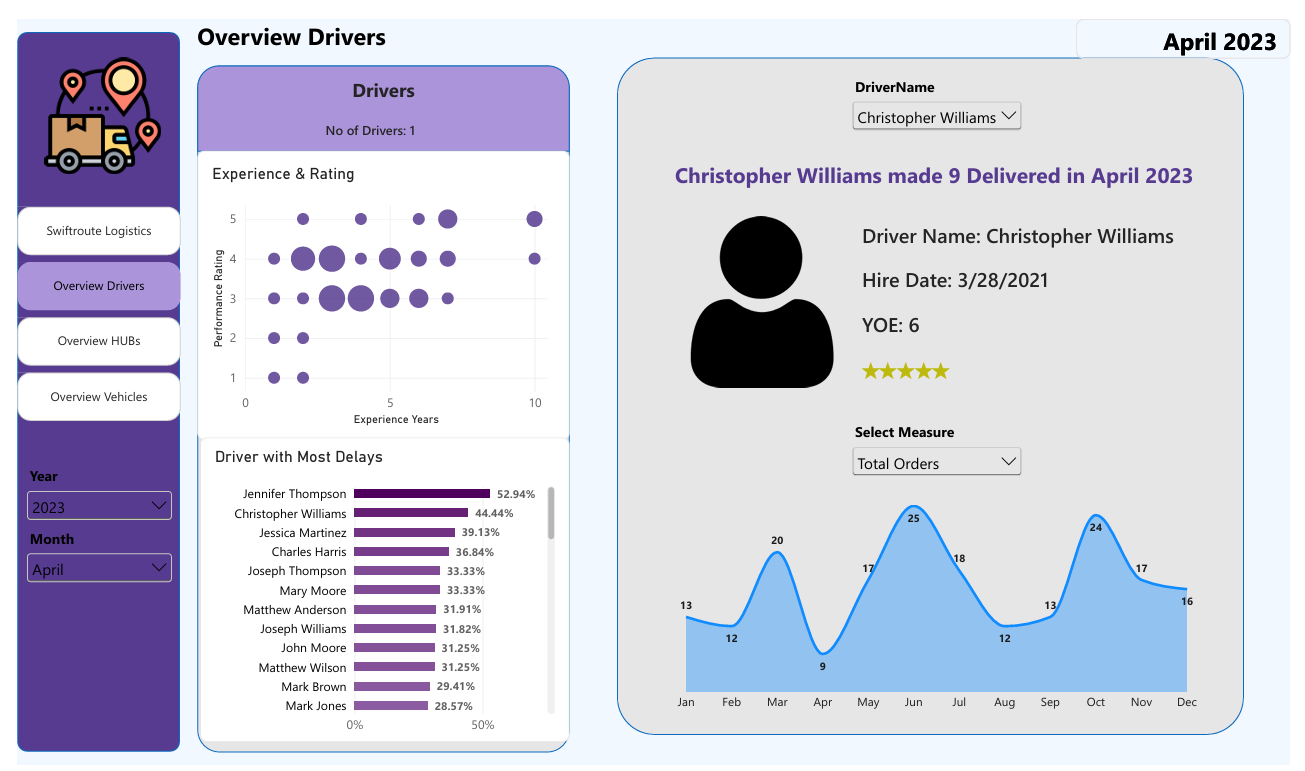

What the dashboard file says about the page in this screenshot:
{"tool":"powerbi","page":{"name":"Overview Drivers","canvas":[1450,850],"ordinal":1},"visuals":[{"type":"shape","title":"Experience & Rating","box":[682.9,44.3,714.3,771.4],"z":0},{"type":"textbox","box":[204.8,0,248.2,44.8],"z":2000},{"type":"cardVisual","fields":{"Data":["Measure.Year Month tilte"]},"box":[1206.3,0,244.1,45.1],"z":5000},{"type":"group","id":"g1","title":"Group 1","box":[205.2,52.9,424.4,783.5],"z":6000},{"type":"slicer","fields":{"Values":["Drivers.DriverName"]},"box":[945.7,65.7,202.9,71.4],"z":7000},{"type":"cardVisual","fields":{"Data":["Measure.Year Month tilte"]},"box":[1205.9,0,244.1,45.1],"z":8000},{"type":"cardVisual","fields":{"Data":["Measure.Driver title"]},"box":[692.9,152.9,701.4,45.7],"z":9000},{"type":"cardVisual","fields":{"Data":["Measure.Driver name","Measure.Hire Date title","Measure.YoE","Measure.Star rating"]},"box":[945.7,218.6,424.3,207.1],"z":10000},{"type":"shape","box":[205.2,52.9,424.3,783.5],"z":11000,"group":"g1"},{"type":"image","box":[751.4,205.7,194.3,232.9],"z":11000},{"type":"areaChart","fields":{"Category":["Date.Month 3"],"Y":["Measure.Total Orders"]},"box":[724.3,531.4,645.7,278.6],"z":12000},{"type":"shape","box":[205.2,52.9,424.3,98.3],"z":13000,"group":"g1"},{"type":"slicer","fields":{"Values":["Select Measure.Select Measure"]},"box":[945.7,460,202.9,71.4],"z":13001},{"type":"shape","box":[0,14.9,185,820],"z":13002},{"type":"slicer","fields":{"Values":["Date.Year"]},"box":[5.7,510,174.9,71.9],"z":13003},{"type":"slicer","fields":{"Values":["Date.Month"]},"box":[5.7,581.4,174.9,71.9],"z":13004},{"type":"pageNavigator","box":[0,214.3,185.7,244.3],"z":13005},{"type":"image","box":[14.3,44.3,165.7,132.9],"z":13006},{"type":"cardVisual","fields":{"Data":["Measure.No of Drivers"]},"box":[335.1,101.6,161.6,48.7],"z":14000,"group":"g1"},{"type":"textbox","box":[205.2,66.3,424.4,37],"z":15000,"group":"g1"},{"type":"scatterChart","title":"Experience & Rating","fields":{"Size":["Measure.driver count"],"X":["Drivers.Experience Years"],"Y":["Drivers.Performance Rating"]},"box":[205.2,150.3,424.4,329.3],"z":16000,"group":"g1"},{"type":"clusteredBarChart","title":"Driver with Most Delays","fields":{"Category":["Drivers.DriverName"],"Y":["Measure.% delayed"]},"box":[208.1,476.9,420.6,346.6],"z":17000,"group":"g1"}]}

Visuals, with their boxes in screenshot pixels (x1, y1, x2, y2), scaled from the page's 1450x850 canvas onto the 1305x771 screenshot:
"Experience & Rating" shape: <bbox>615, 40, 1257, 740</bbox>
textbox: <bbox>184, 0, 408, 41</bbox>
cardVisual - Measure.Year Month tilte: <bbox>1086, 0, 1304, 41</bbox>
"Group 1" group: <bbox>185, 48, 567, 759</bbox>
slicer - Drivers.DriverName: <bbox>851, 60, 1034, 124</bbox>
cardVisual - Measure.Year Month tilte: <bbox>1085, 0, 1304, 41</bbox>
cardVisual - Measure.Driver title: <bbox>624, 139, 1255, 180</bbox>
cardVisual - Measure.Driver name x Measure.Hire Date title: <bbox>851, 198, 1233, 386</bbox>
shape: <bbox>185, 48, 567, 759</bbox>
image: <bbox>676, 187, 851, 398</bbox>
areaChart - Date.Month 3 x Measure.Total Orders: <bbox>652, 482, 1233, 735</bbox>
shape: <bbox>185, 48, 567, 137</bbox>
slicer - Select Measure.Select Measure: <bbox>851, 417, 1034, 482</bbox>
shape: <bbox>0, 14, 166, 757</bbox>
slicer - Date.Year: <bbox>5, 463, 163, 528</bbox>
slicer - Date.Month: <bbox>5, 527, 163, 593</bbox>
pageNavigator: <bbox>0, 194, 167, 416</bbox>
image: <bbox>13, 40, 162, 161</bbox>
cardVisual - Measure.No of Drivers: <bbox>302, 92, 447, 136</bbox>
textbox: <bbox>185, 60, 567, 94</bbox>
"Experience & Rating" scatterChart: <bbox>185, 136, 567, 435</bbox>
"Driver with Most Delays" clusteredBarChart: <bbox>187, 433, 566, 747</bbox>
